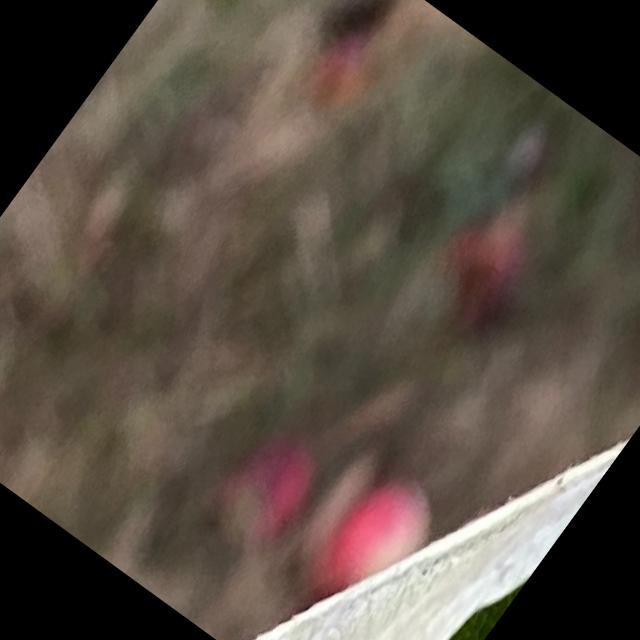Apples: (296, 458, 450, 628), (199, 423, 325, 562)
